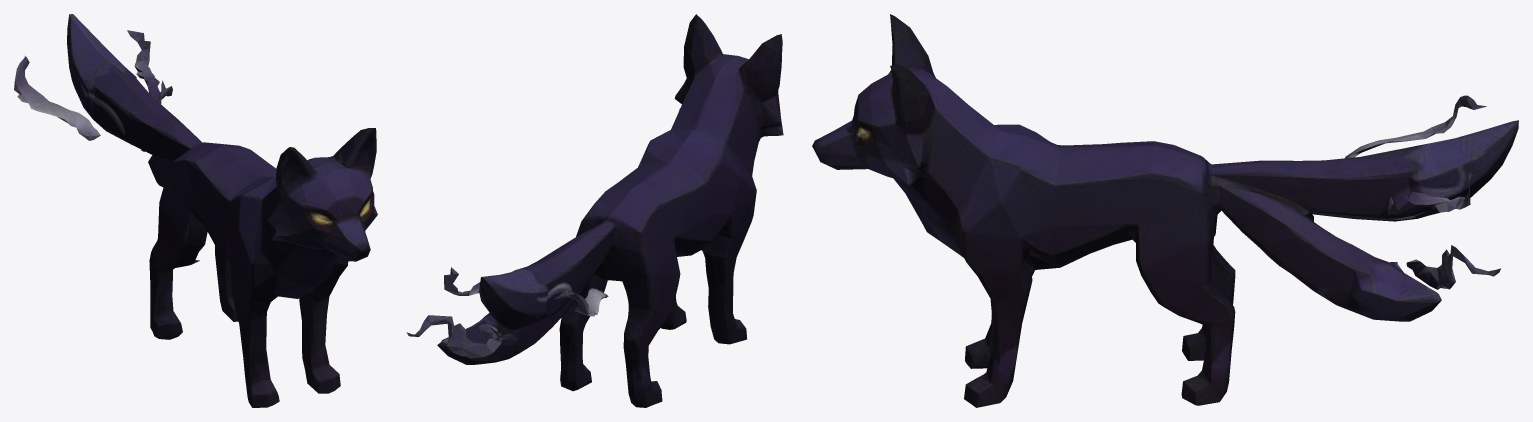
Rendered from foe_shadowFox.glb.
3 renders of one model, left to right at view 1: azimuth 30°, elevation 25°; view 2: azimuth 150°, elevation 25°; view 3: azimuth 270°, elevation 25°, orthographic. The views are drawn at different scales.
Parts seen in each view (by area): view 1: tripo_node_ce4ec8a4-c887-45ae-ae2d-b903f73b2012.001; view 2: tripo_node_ce4ec8a4-c887-45ae-ae2d-b903f73b2012.001; view 3: tripo_node_ce4ec8a4-c887-45ae-ae2d-b903f73b2012.001.
Part boxes in pixels (x1,y1,x2,y2): tripo_node_ce4ec8a4-c887-45ae-ae2d-b903f73b2012.001: (14,14,377,407); tripo_node_ce4ec8a4-c887-45ae-ae2d-b903f73b2012.001: (406,14,783,407); tripo_node_ce4ec8a4-c887-45ae-ae2d-b903f73b2012.001: (812,14,1518,407).
Size of the model in its own units: 0.3271 by 0.5325 by 0.9935.
1 material, 1 textured.
